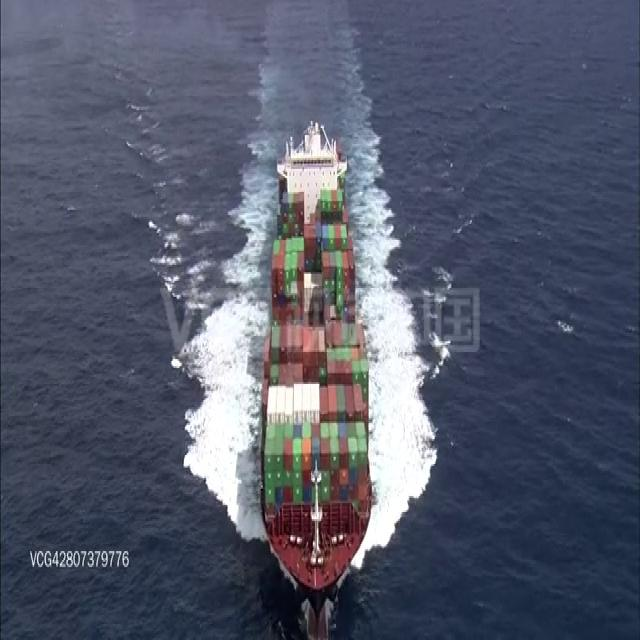cargoship: (260, 119, 381, 607)
